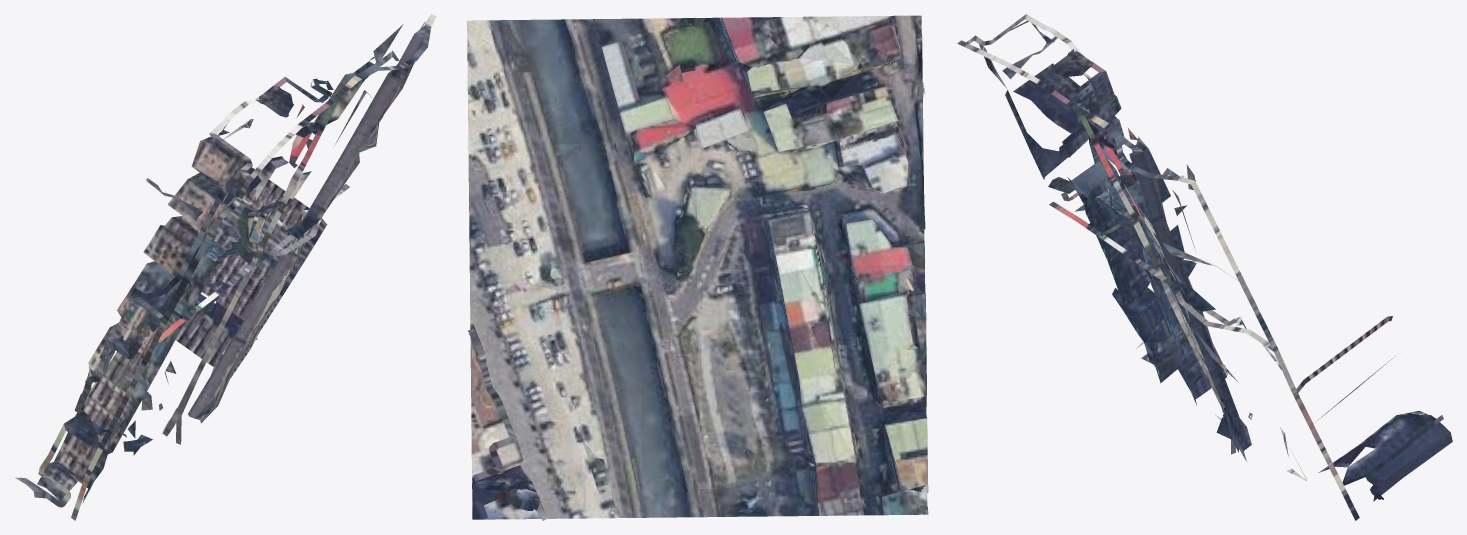
3 views of the same model, side by side, from view 1: azimuth 30°, elevation 25°; view 2: azimuth 150°, elevation 25°; view 3: azimuth 270°, elevation 25° (orthographic). The views are drawn at different scales.
Bounding box in the file's own units: 162 × 149 × 164.
Materials: 2 (2 with a texture image).
